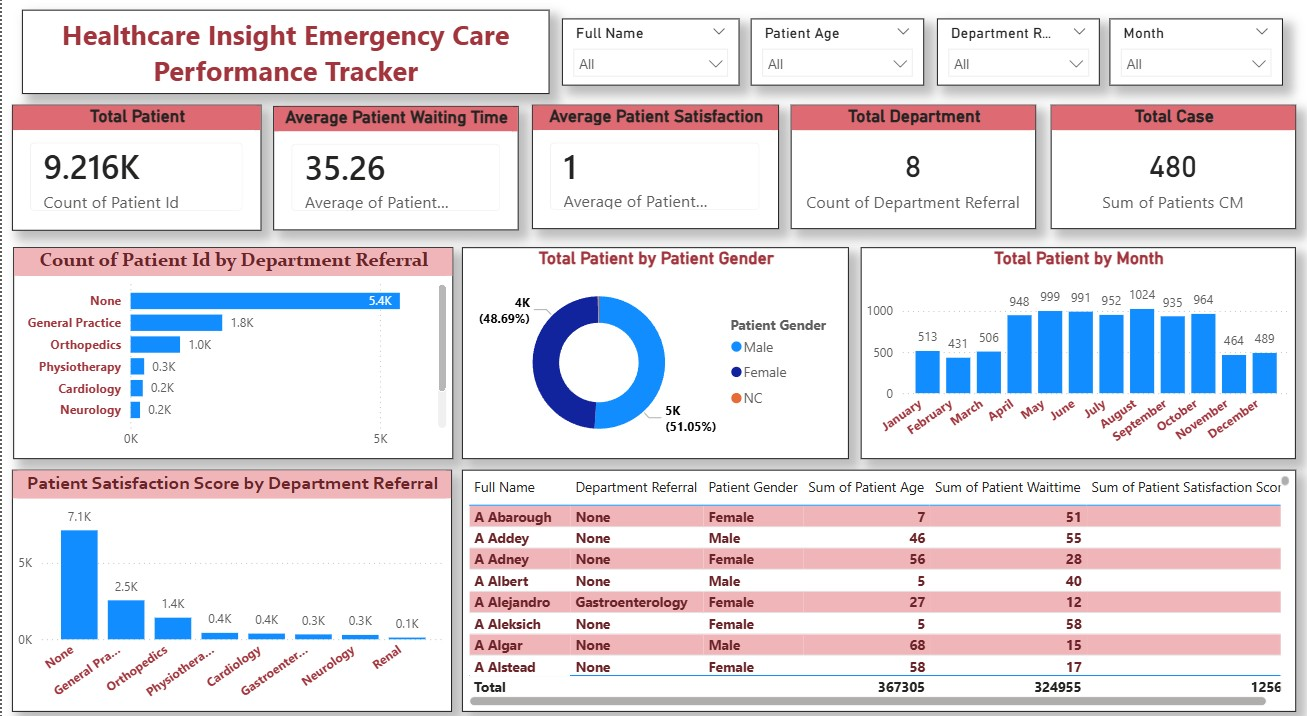

Layout of this report page (visuals, bound fields, positions):
{"tool":"powerbi","page":{"name":"Page 1","canvas":[1280,720],"ordinal":0},"visuals":[{"type":"textbox","box":[10,0,280,280],"z":0},{"type":"textbox","box":[19.9,22.8,516.3,82.5],"z":1000},{"type":"slicer","fields":{"Values":["Hospital ER_Data.Full Name"]},"box":[547.6,31.3,173.5,65.4],"z":2000},{"type":"slicer","fields":{"Values":["Hospital ER_Data.Patient Age"]},"box":[732.4,31.3,169.2,65.4],"z":3000},{"type":"slicer","fields":{"Values":["Hospital ER_Data.Department Referral"]},"box":[914.5,31.3,159.3,65.4],"z":4000},{"type":"slicer","fields":{"Values":["Hospital ER_Data.Date .Variation.Date Hierarchy.Month"]},"box":[1083.7,31.3,169.2,65.4],"z":5000},{"type":"cardVisual","title":"Total Patient","fields":{"Data":["Hospital ER_Data.Patient Id"]},"box":[10,115.7,244.3,122.9],"z":6000},{"type":"cardVisual","title":"Average Patient Waiting Time","fields":{"Data":["Hospital ER_Data.Patient Waittime"]},"box":[265.7,117.1,240,121.4],"z":7000},{"type":"cardVisual","title":"Average Patient Satisfaction","fields":{"Data":["Hospital ER_Data.Patient Satisfaction Score"]},"box":[518.6,115.7,241.4,121.4],"z":8000},{"type":"card","title":"Total Department","fields":{"Values":["Hospital ER_Data.Department Referral"]},"box":[771.4,115.7,240,121.4],"z":9000},{"type":"card","title":"Total Case ","fields":{"Values":["Hospital ER_Data.Patients CM"]},"box":[1025.7,115.7,240,121.4],"z":10000},{"type":"clusteredBarChart","fields":{"Category":["Hospital ER_Data.Department Referral"],"Y":["Hospital ER_Data.Patient Id"]},"box":[11.4,255.7,430,207.1],"z":11000},{"type":"donutChart","fields":{"Y":["Hospital ER_Data.Total Patient"],"Category":["Hospital ER_Data.Patient Gender"]},"box":[450,255.7,378.6,207.1],"z":12000},{"type":"columnChart","fields":{"Category":["Hospital ER_Data.Date .Variation.Date Hierarchy.Month"],"Y":["Hospital ER_Data.Total Patient"]},"box":[840,255.7,425.7,207.1],"z":13000},{"type":"columnChart","title":"Patient Satisfaction Score by Department Referral","fields":{"Y":["Hospital ER_Data.Patient Satisfaction Score"],"Category":["Hospital ER_Data.Department Referral"]},"box":[10,472.9,430,237.1],"z":14000},{"type":"tableEx","fields":{"Values":["Hospital ER_Data.Full Name","Hospital ER_Data.Department Referral","Hospital ER_Data.Patient Gender","Hospital ER_Data.Patient Age","Hospital ER_Data.Patient Waittime","Hospital ER_Data.Patient Satisfaction Score"]},"box":[450,472.9,815.7,237.1],"z":15000}]}

Visuals, with their boxes in screenshot pixels (x1, y1, x2, y2), scaled from the page's 1280x720 canvas onto the 1307x716 screenshot:
textbox: [x1=10, y1=0, x2=296, y2=278]
textbox: [x1=20, y1=23, x2=548, y2=105]
slicer - Hospital ER_Data.Full Name: [x1=559, y1=31, x2=736, y2=96]
slicer - Hospital ER_Data.Patient Age: [x1=748, y1=31, x2=921, y2=96]
slicer - Hospital ER_Data.Department Referral: [x1=934, y1=31, x2=1096, y2=96]
slicer - Hospital ER_Data.Date .Variation.Date Hierarchy.Month: [x1=1107, y1=31, x2=1279, y2=96]
"Total Patient" cardVisual: [x1=10, y1=115, x2=260, y2=237]
"Average Patient Waiting Time" cardVisual: [x1=271, y1=116, x2=516, y2=237]
"Average Patient Satisfaction" cardVisual: [x1=530, y1=115, x2=776, y2=236]
"Total Department" card: [x1=788, y1=115, x2=1033, y2=236]
"Total Case " card: [x1=1047, y1=115, x2=1292, y2=236]
clusteredBarChart - Hospital ER_Data.Department Referral x Hospital ER_Data.Patient Id: [x1=12, y1=254, x2=451, y2=460]
donutChart - Hospital ER_Data.Total Patient x Hospital ER_Data.Patient Gender: [x1=459, y1=254, x2=846, y2=460]
columnChart - Hospital ER_Data.Date .Variation.Date Hierarchy.Month x Hospital ER_Data.Total Patient: [x1=858, y1=254, x2=1292, y2=460]
"Patient Satisfaction Score by Department Referral" columnChart: [x1=10, y1=470, x2=449, y2=706]
tableEx - Hospital ER_Data.Full Name x Hospital ER_Data.Department Referral: [x1=459, y1=470, x2=1292, y2=706]
